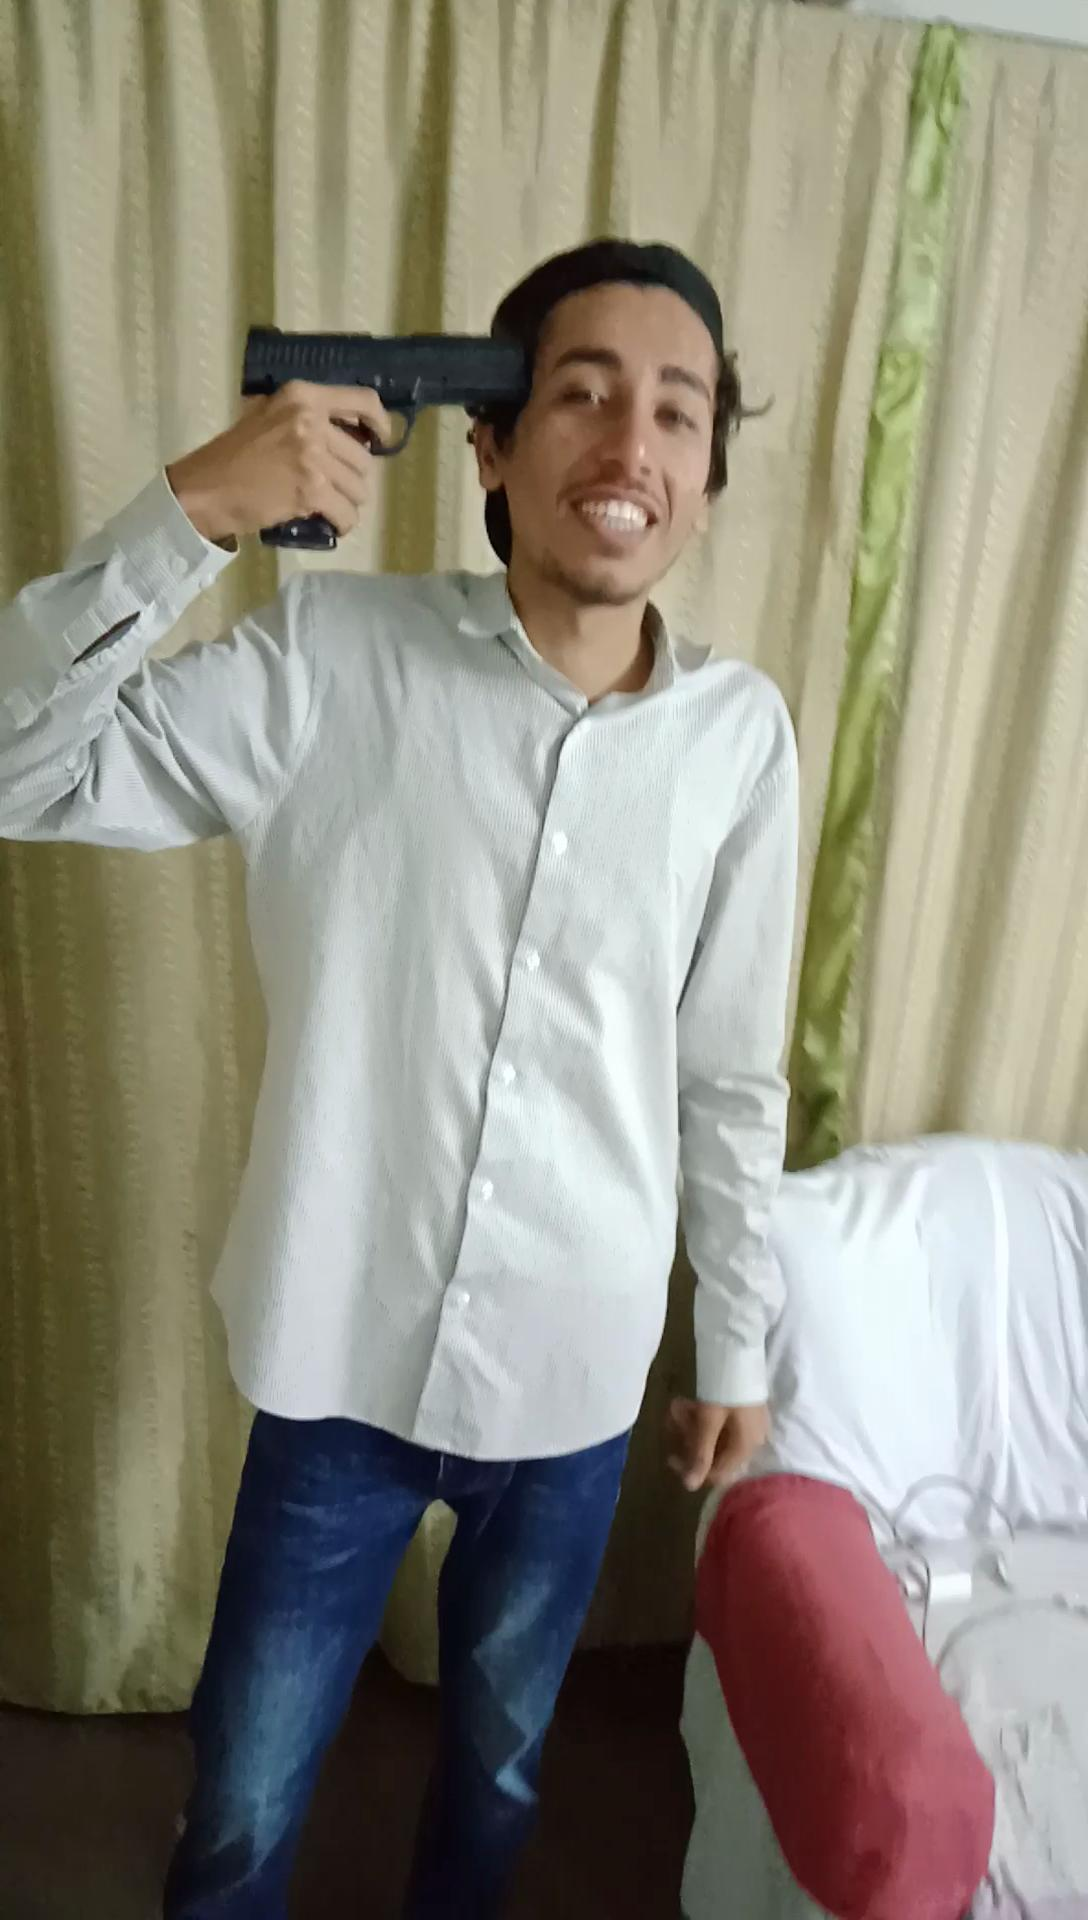criminal: (0, 231, 816, 1920)
weapon: (220, 316, 521, 564)
